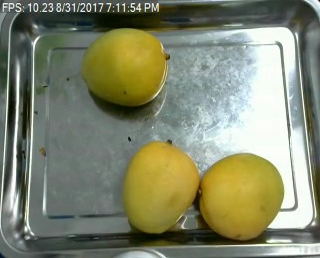Mango: (196, 145, 283, 239), (78, 22, 173, 107), (123, 139, 201, 239)
